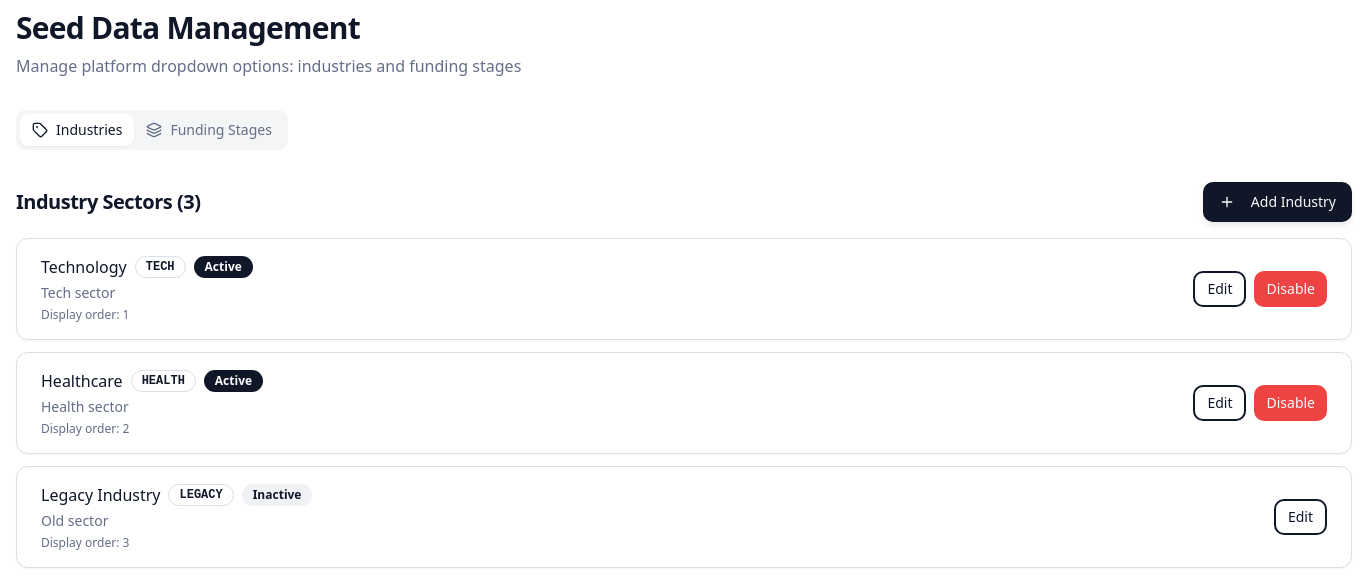
it: US-SEED-002: Admin Manage Funding Stages › Page Layout › should list all funding stages when tab is clicked
Step 1. Click the tab "Funding Stages" → [209, 130], box [134, 114, 284, 146]
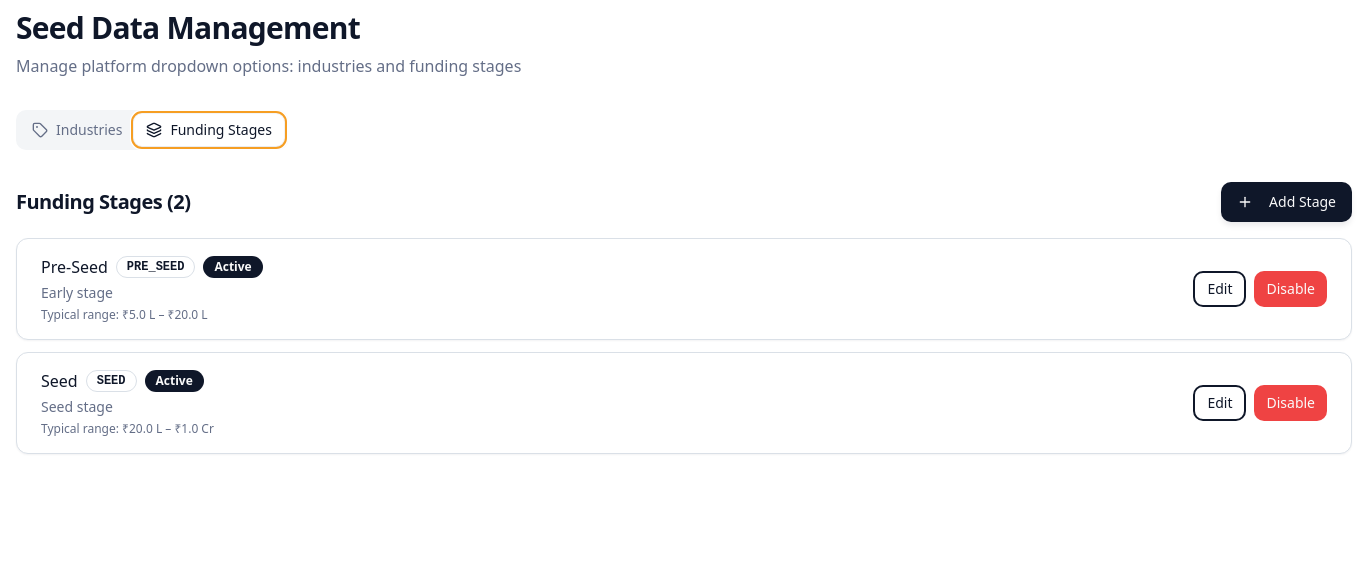
Expected: the text "Pre-Seed" is shown, [41, 255, 108, 279]
Expected: the text "Seed" is shown, [41, 369, 78, 393]
